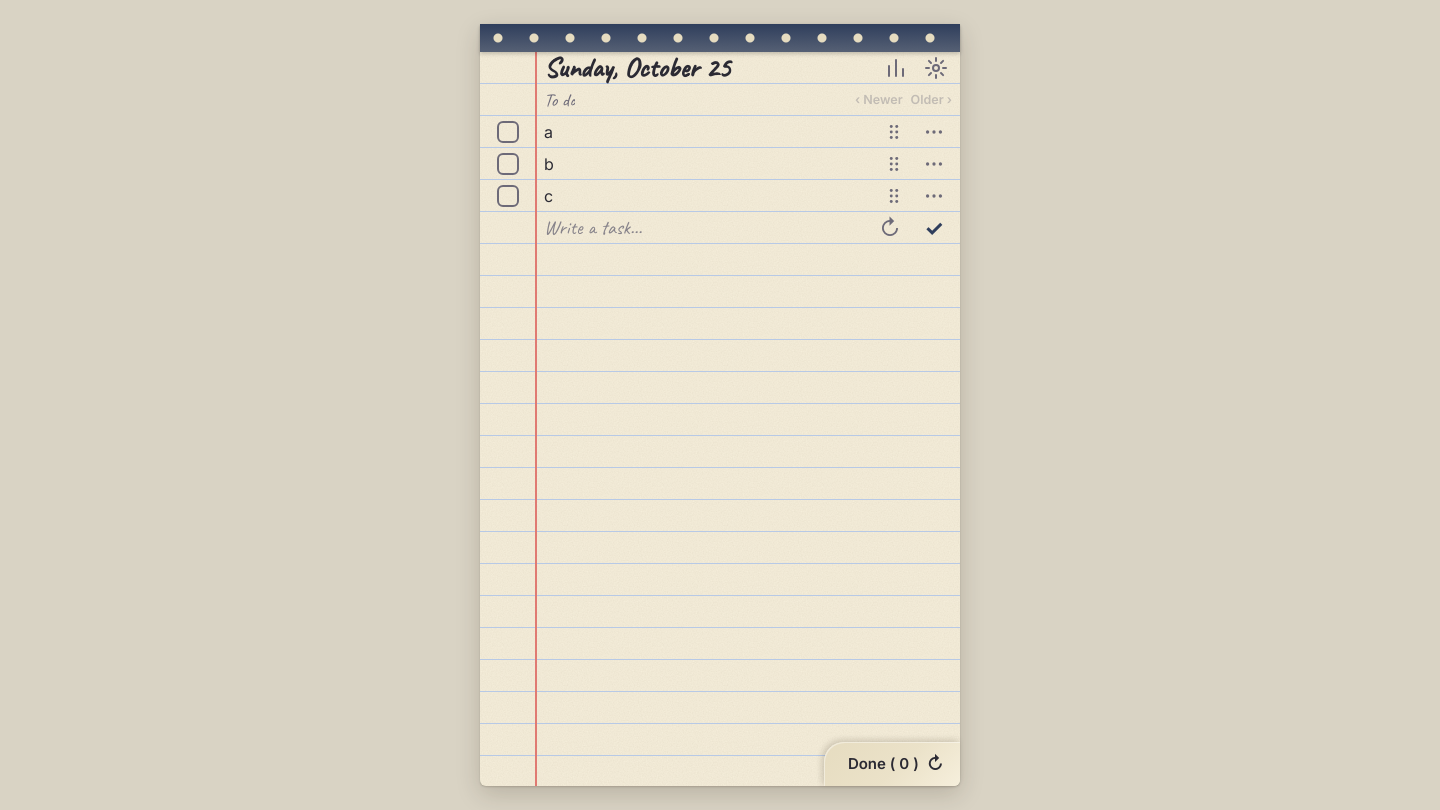
the task menu › deletes with a toast, and Undo puts the task back
This screenshot has width=1440, height=810.
Click the button named "Actions for: b" at point(934, 164), box x1=912 y1=142 x2=956 y2=186
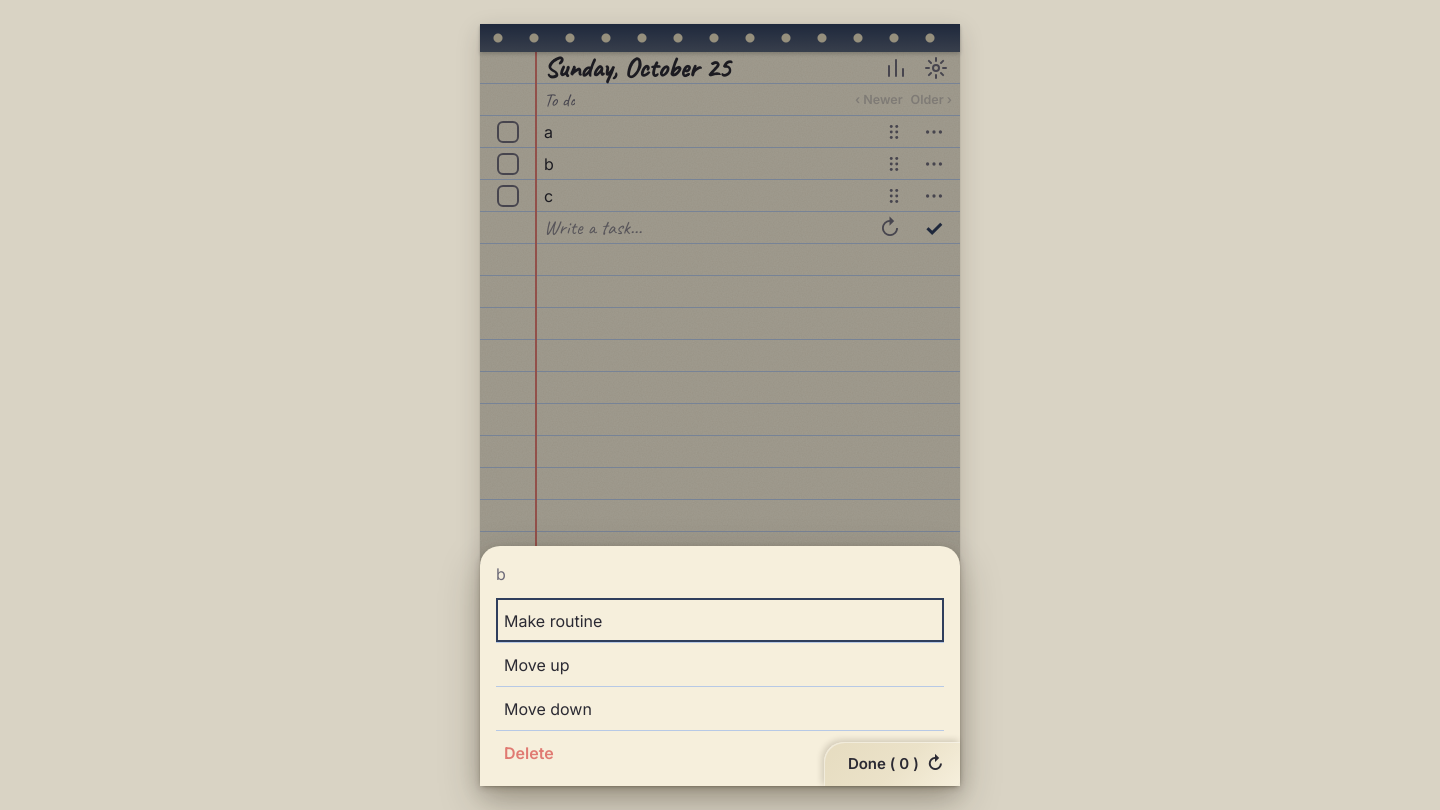
Click the button "Delete" at point(529, 752), box x1=496 y1=730 x2=944 y2=774
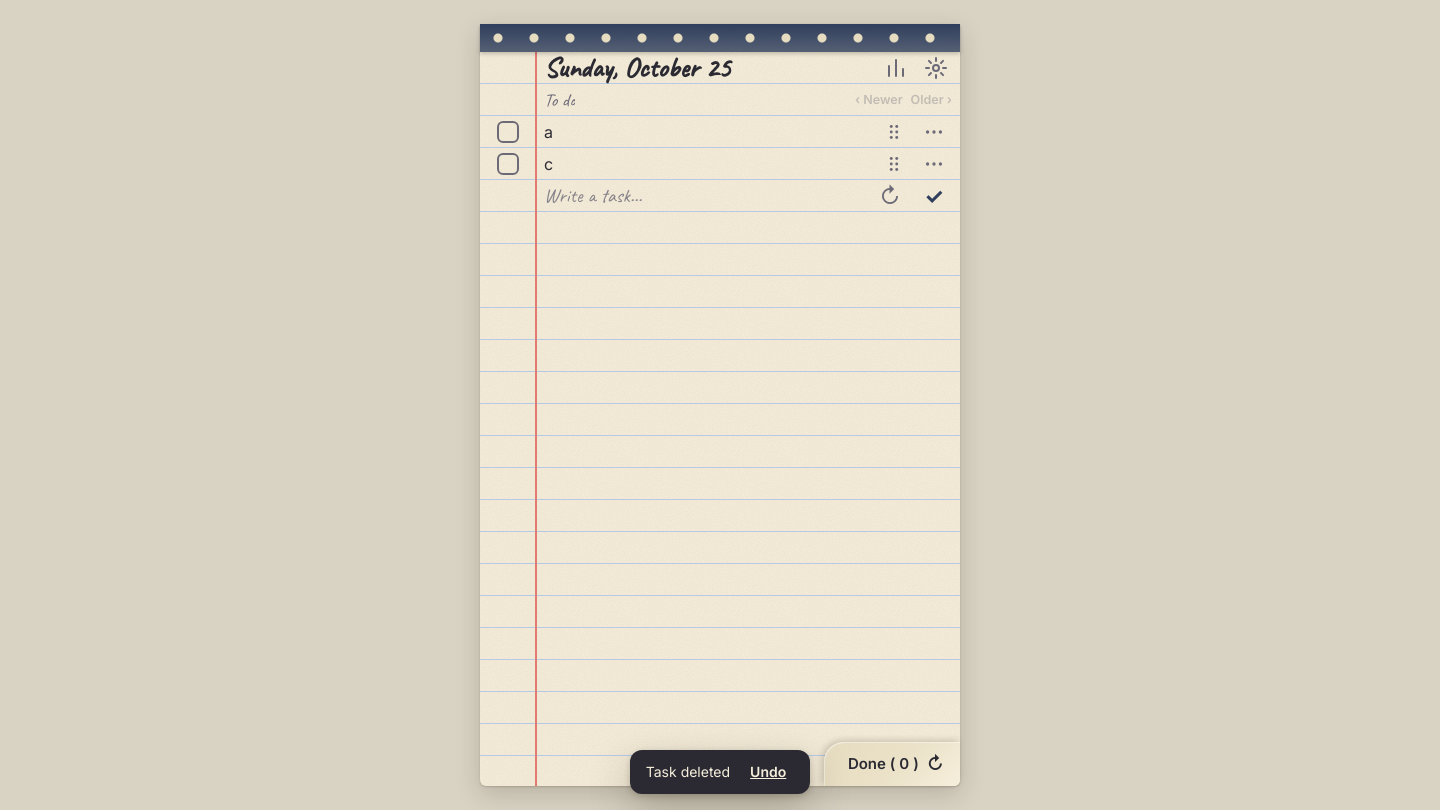
Expected: the text "Task deleted" is shown, x1=646 y1=763 x2=730 y2=780
Click the button "Undo" at point(768, 772), box x1=742 y1=750 x2=794 y2=794
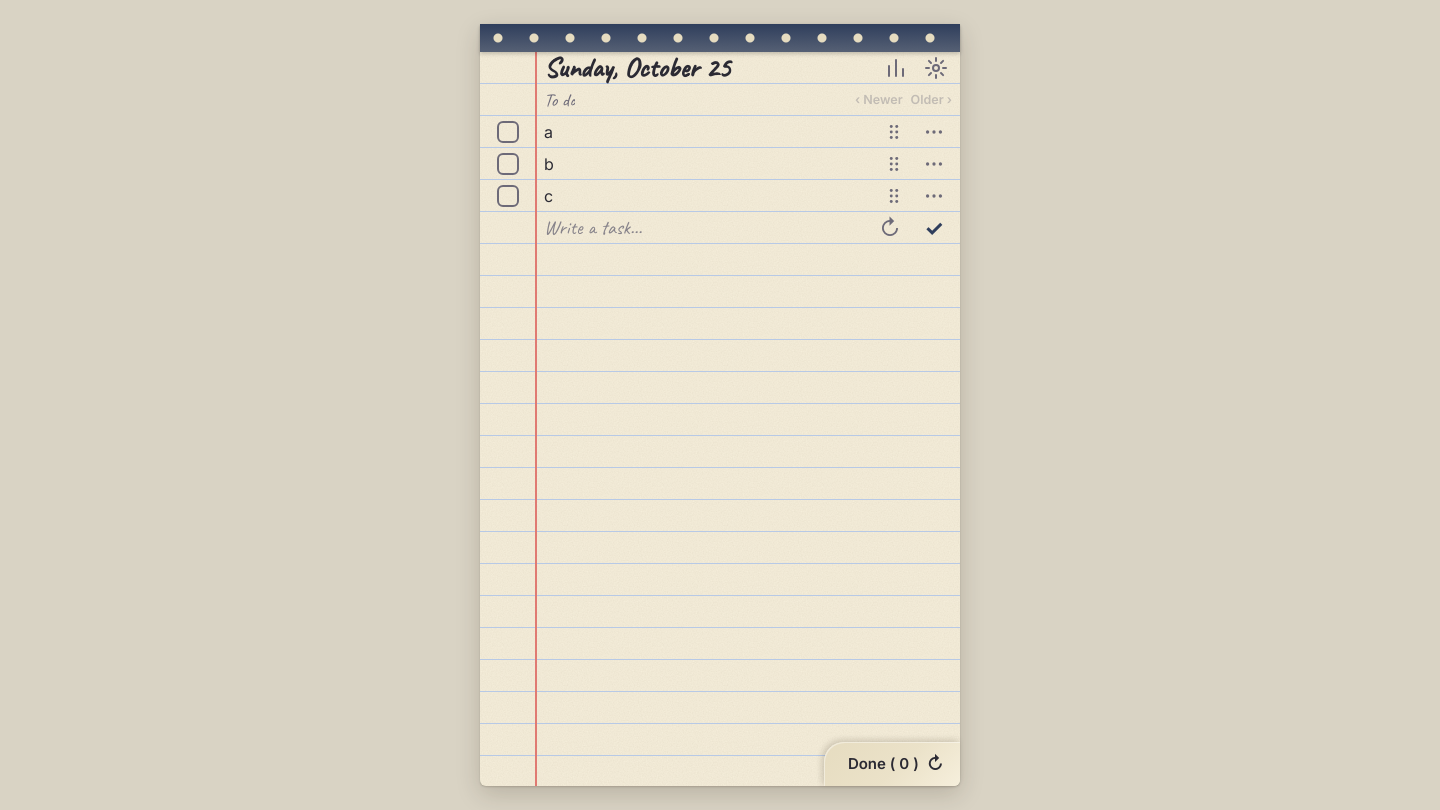
Expected: the text "Task deleted" is gone
